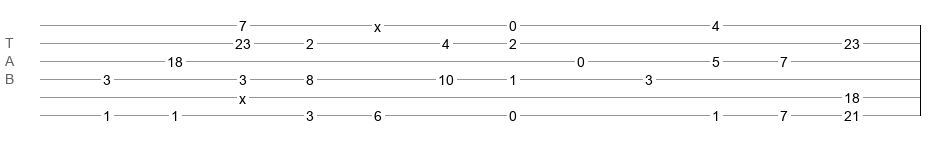0: (509, 108, 517, 118), (509, 18, 517, 28), (577, 54, 585, 64)
1: (103, 108, 111, 118), (171, 108, 179, 118), (509, 72, 517, 82), (712, 108, 720, 118)
10: (438, 72, 454, 82)
18: (167, 54, 183, 64), (844, 90, 860, 100)
2: (306, 36, 314, 46), (509, 36, 517, 46)
21: (844, 108, 860, 118)
23: (235, 36, 251, 46), (844, 36, 860, 46)
3: (103, 72, 111, 82), (239, 72, 247, 82), (306, 108, 314, 118), (645, 72, 653, 82)
4: (442, 36, 450, 46), (712, 18, 720, 28)
5: (712, 54, 720, 64)
6: (374, 108, 382, 118)
7: (239, 18, 247, 28), (780, 54, 788, 64), (780, 108, 788, 118)
8: (306, 72, 314, 82)
x: (239, 91, 246, 99), (374, 19, 381, 27)
